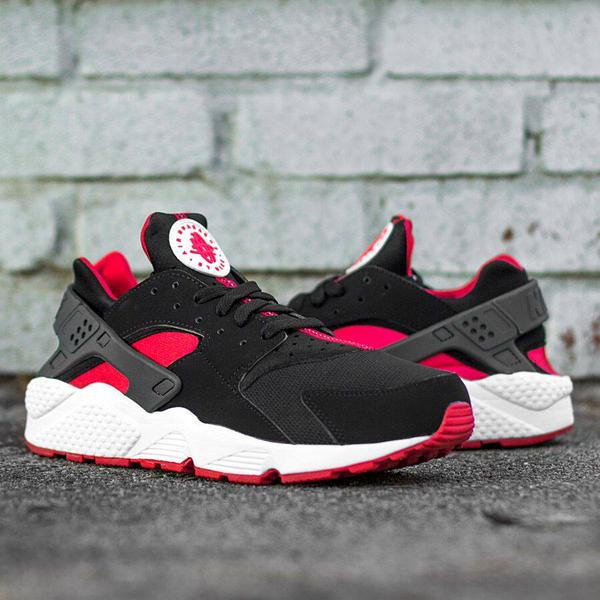Air Huarache Bred: (15, 203, 485, 490), (241, 198, 581, 458)
